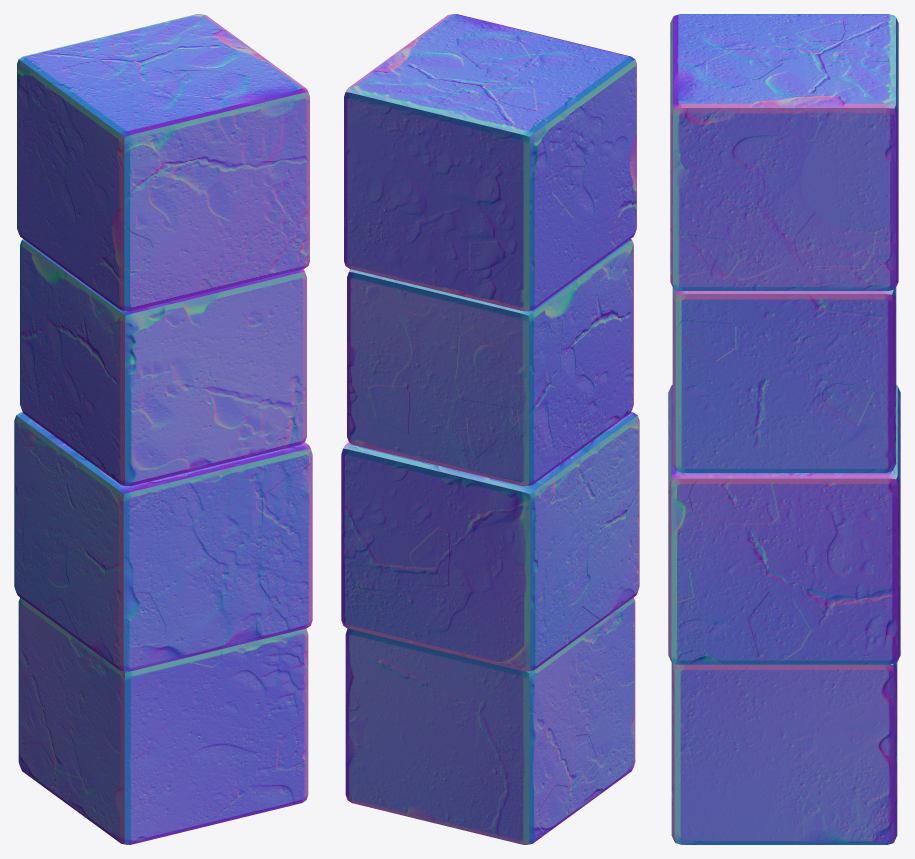
Rendered from Dungeon_Pillar1.fbx.
3 views of the same model, side by side, from view 1: azimuth 30°, elevation 25°; view 2: azimuth 150°, elevation 25°; view 3: azimuth 270°, elevation 25° (orthographic). The views are drawn at different scales.
Parts seen in each view (by area): view 1: MeshHP; view 2: MeshHP; view 3: MeshHP.
Boxes of the visible parts, x1,y1,x2,y2 form: MeshHP: (14, 14, 312, 844); MeshHP: (341, 14, 639, 844); MeshHP: (668, 14, 900, 844).
Bounding box in the file's own units: 1.16 × 4.08 × 1.16.
Materials: 1 (1 with a texture image).
